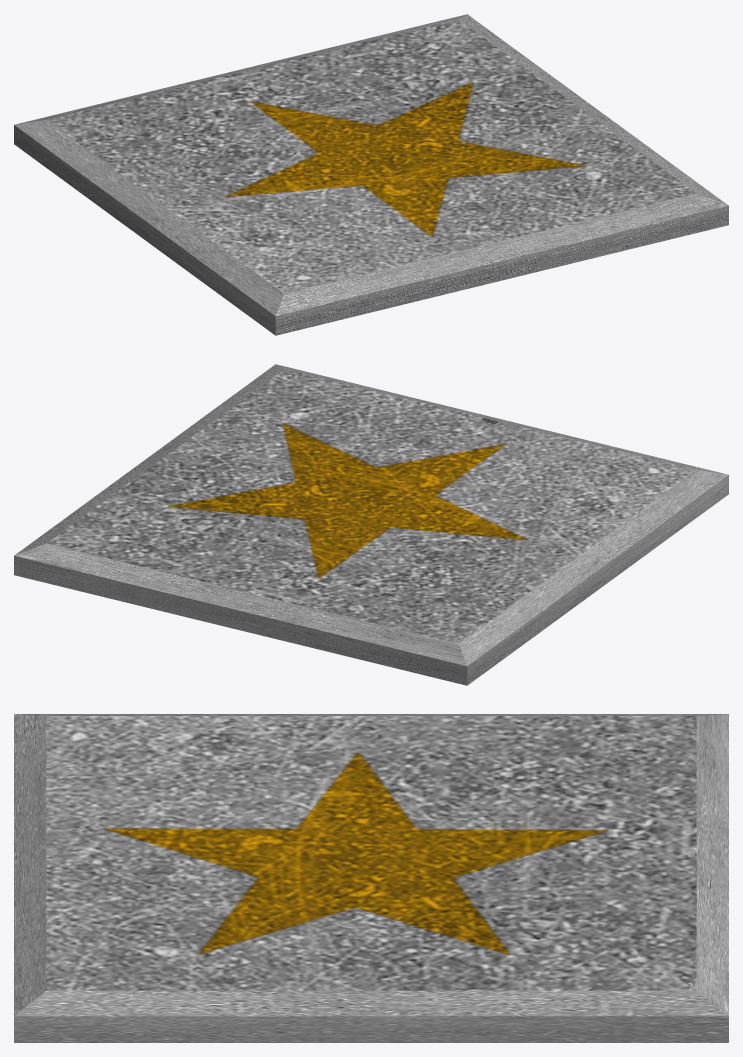
The model's file is piso estrella.fbx.
The picture shows the model from 3 angles, top to bottom: view 1: azimuth 30°, elevation 25°; view 2: azimuth 150°, elevation 25°; view 3: azimuth 270°, elevation 25°; orthographic projection. The views are drawn at different scales.
Visible parts, largest first — view 1: Cubo; view 2: Cubo; view 3: Cubo.
Boxes of the visible parts, x1,y1,x2,y2 form: Cubo: (14,14,728,335); Cubo: (14,364,728,685); Cubo: (14,714,728,1042).
Bounding box in the file's own units: 200 × 11.86 × 200.
1 material, 1 textured.
